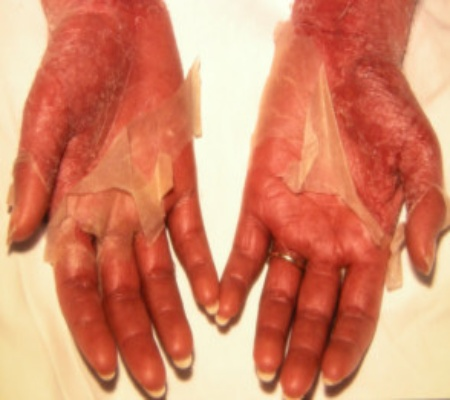SJS-TEN: (201, 0, 450, 400), (0, 0, 221, 400)
